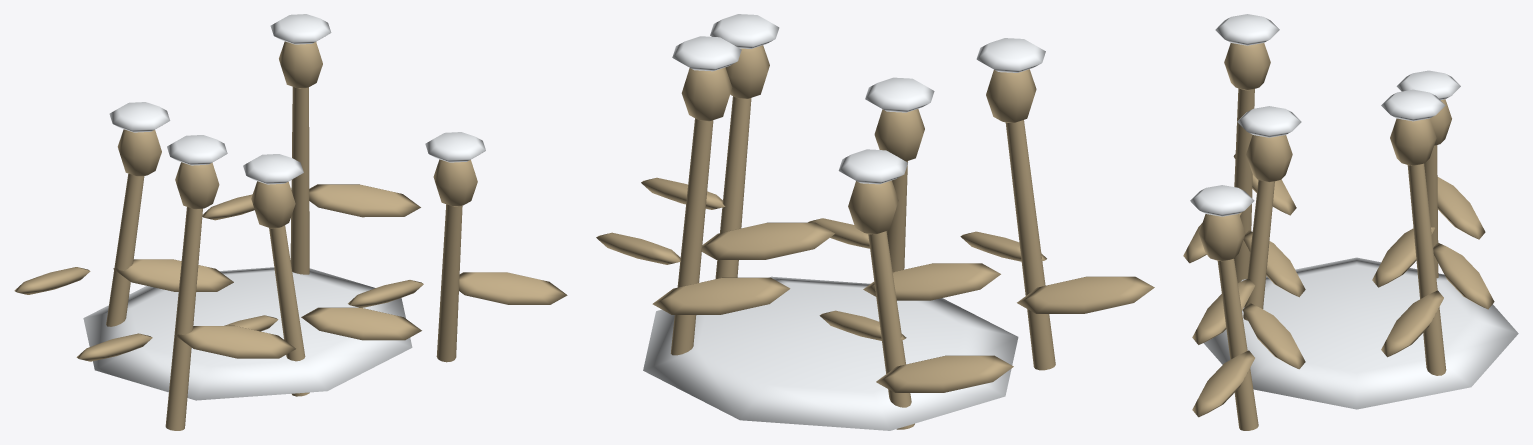
Rendered from flower_2_winter.glb.
3 renders of one model, left to right at view 1: azimuth 30°, elevation 25°; view 2: azimuth 150°, elevation 25°; view 3: azimuth 270°, elevation 25°, orthographic. The views are drawn at different scales.
Size of the model in its own units: 0.6121 by 0.3674 by 0.3731.
